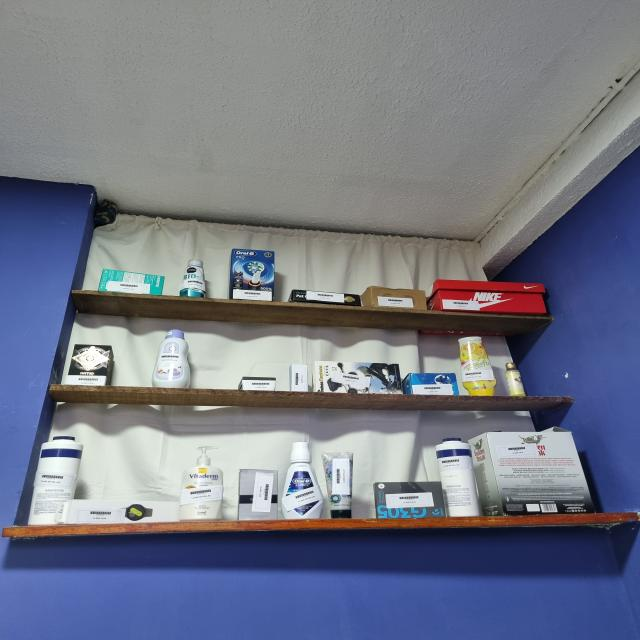botella: (29, 436, 83, 524), (436, 438, 481, 517), (179, 446, 223, 520), (284, 442, 323, 519), (152, 329, 190, 388), (459, 337, 496, 396), (322, 452, 353, 519), (179, 260, 205, 298), (505, 362, 526, 397)
caja: (470, 428, 594, 516), (427, 279, 547, 314), (55, 499, 180, 524), (313, 361, 402, 394), (374, 481, 446, 519), (229, 249, 274, 301), (238, 469, 278, 520), (68, 344, 113, 385), (99, 269, 164, 295), (361, 286, 426, 310), (403, 373, 459, 396), (288, 289, 361, 306), (238, 377, 276, 391), (289, 364, 308, 392)
